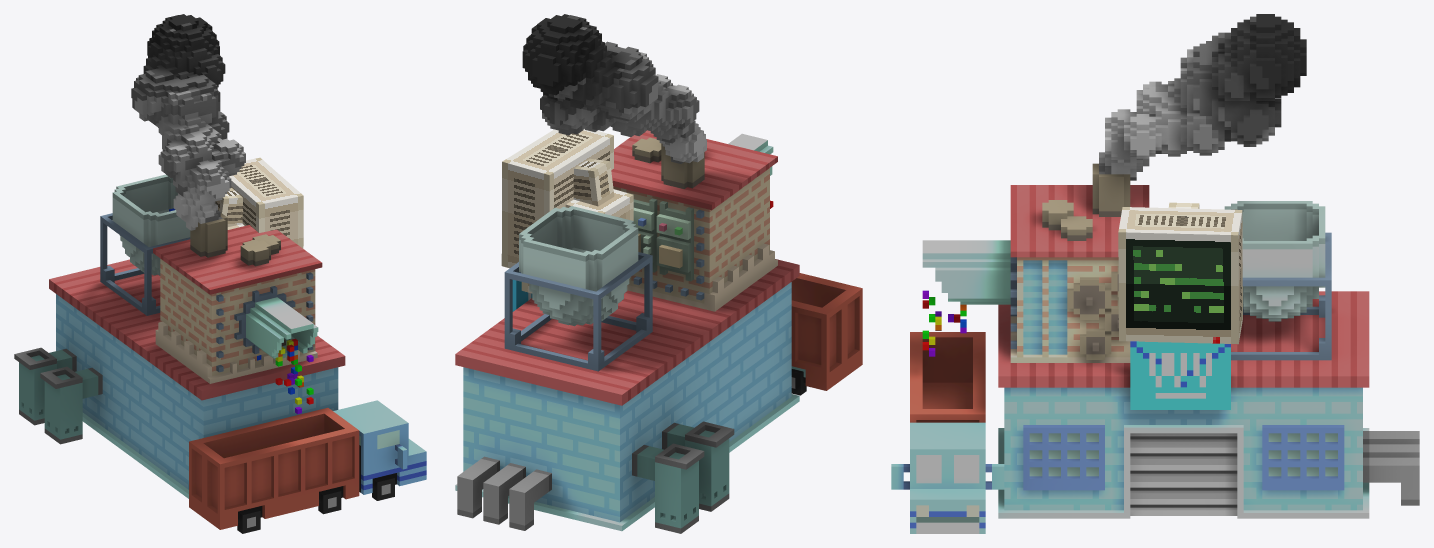
The model's file is factory.glb.
3 renders of one model, left to right at view 1: azimuth 30°, elevation 25°; view 2: azimuth 150°, elevation 25°; view 3: azimuth 270°, elevation 25°, orthographic. The views are drawn at different scales.
Visible parts, largest first — view 1: Geode, cube_2, cube_4; view 2: Geode, cube_2, cube_4, cube_3; view 3: Geode, cube_2.
Part boxes in pixels (x1,y1,x2,y2): Geode: [14, 14, 426, 533]; cube_2: [229, 157, 303, 248]; cube_4: [215, 188, 242, 226]; Geode: [455, 14, 862, 533]; cube_2: [501, 129, 613, 268]; cube_4: [573, 158, 614, 206]; cube_3: [565, 189, 633, 220]; Geode: [891, 14, 1419, 533]; cube_2: [1118, 207, 1242, 344].
Bounding box in the file's own units: 6.5 × 10.25 × 10.5.
Materials: 2 (1 with a texture image).
